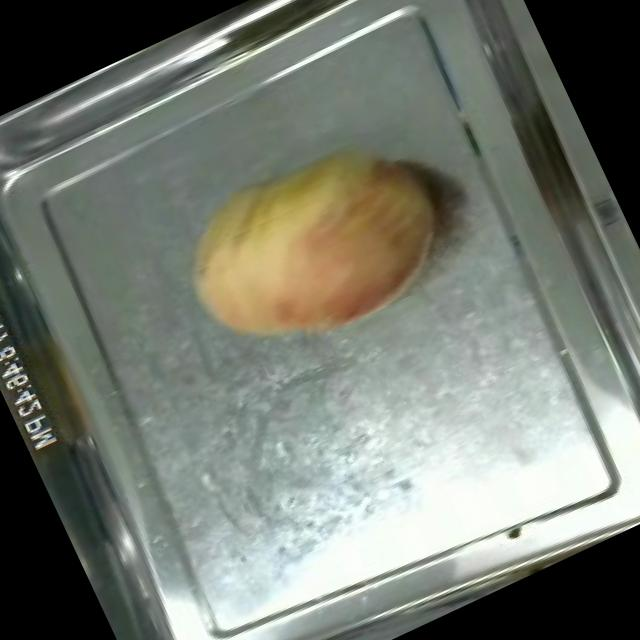Fruit: (156, 110, 475, 388)
